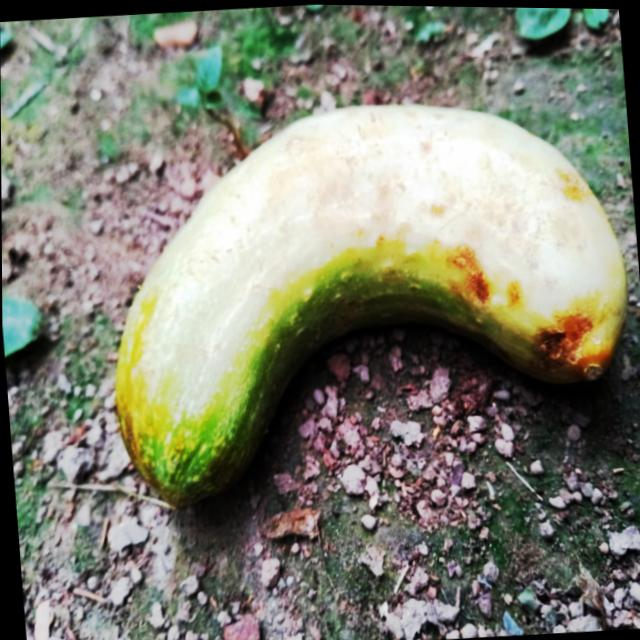Belly-Rot: (358, 155, 526, 318), (513, 283, 610, 381), (540, 149, 600, 223)
